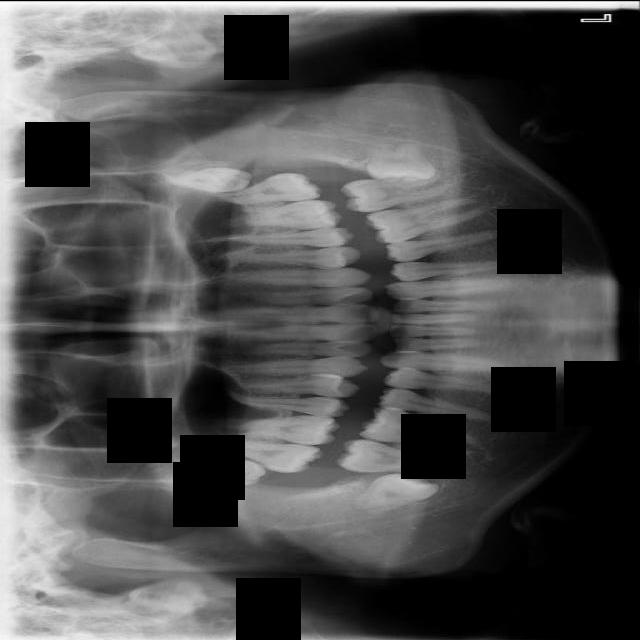3M ESPE Implant: (178, 454, 267, 489)
73: (543, 58, 572, 67)
BioHorizons Implant: (207, 169, 324, 206)
BioLife Implant: (166, 166, 253, 192)
Biomet 3i Implant: (367, 142, 436, 181)
Blue Sky Bio Implant: (339, 173, 448, 213)
Caries: (199, 437, 324, 474)
Implant: (335, 435, 447, 481)
Keystone Dental Implant: (346, 458, 442, 522)
